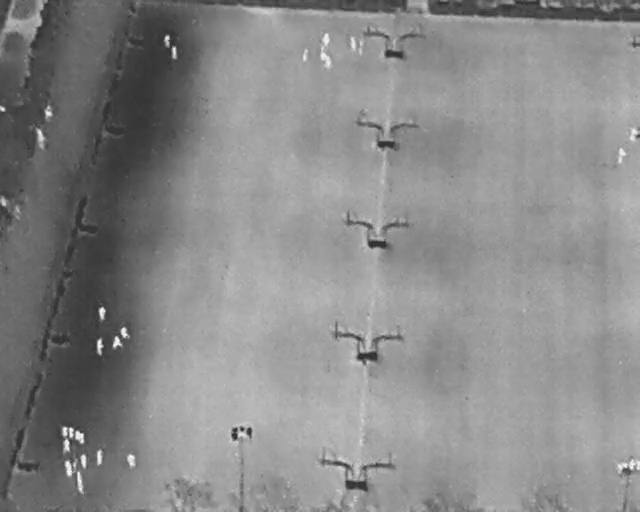Person: (73, 471, 88, 496), (61, 459, 75, 479), (118, 325, 132, 342), (614, 147, 627, 164), (94, 337, 105, 357), (61, 437, 73, 455), (125, 451, 137, 469), (110, 335, 123, 350), (95, 447, 104, 467), (628, 126, 639, 142), (79, 452, 88, 469), (322, 32, 332, 47), (349, 35, 358, 51), (97, 306, 106, 322), (171, 46, 180, 61), (301, 48, 310, 63), (324, 56, 333, 70), (357, 41, 365, 56), (163, 34, 171, 48), (320, 49, 328, 62)
